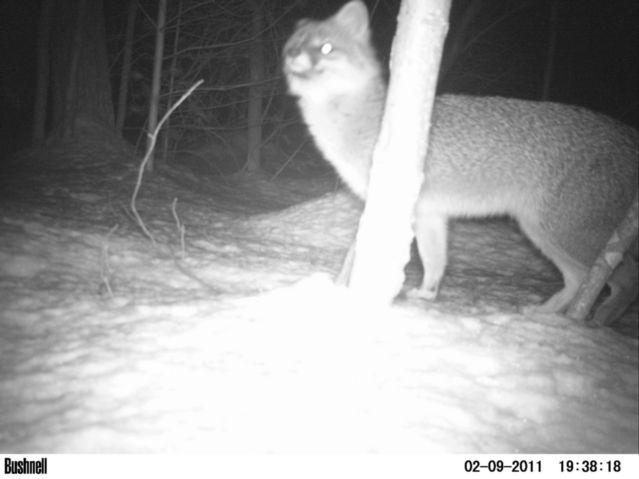fox: (270, 4, 639, 361)
